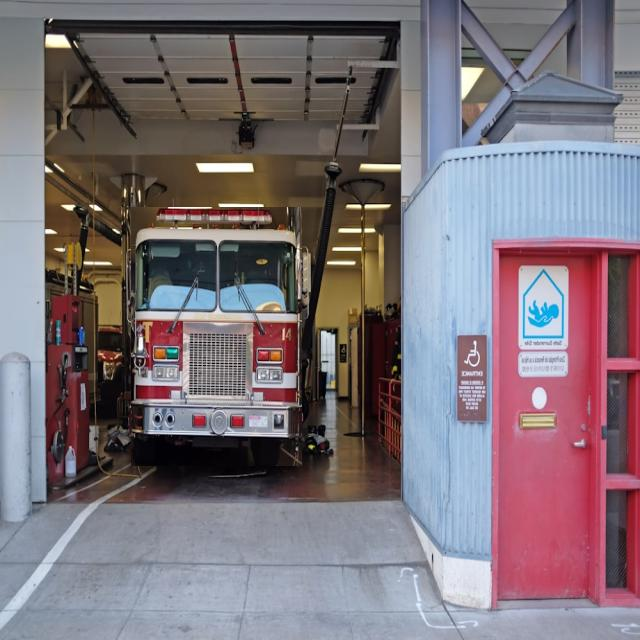emergency: (131, 208, 301, 466)
